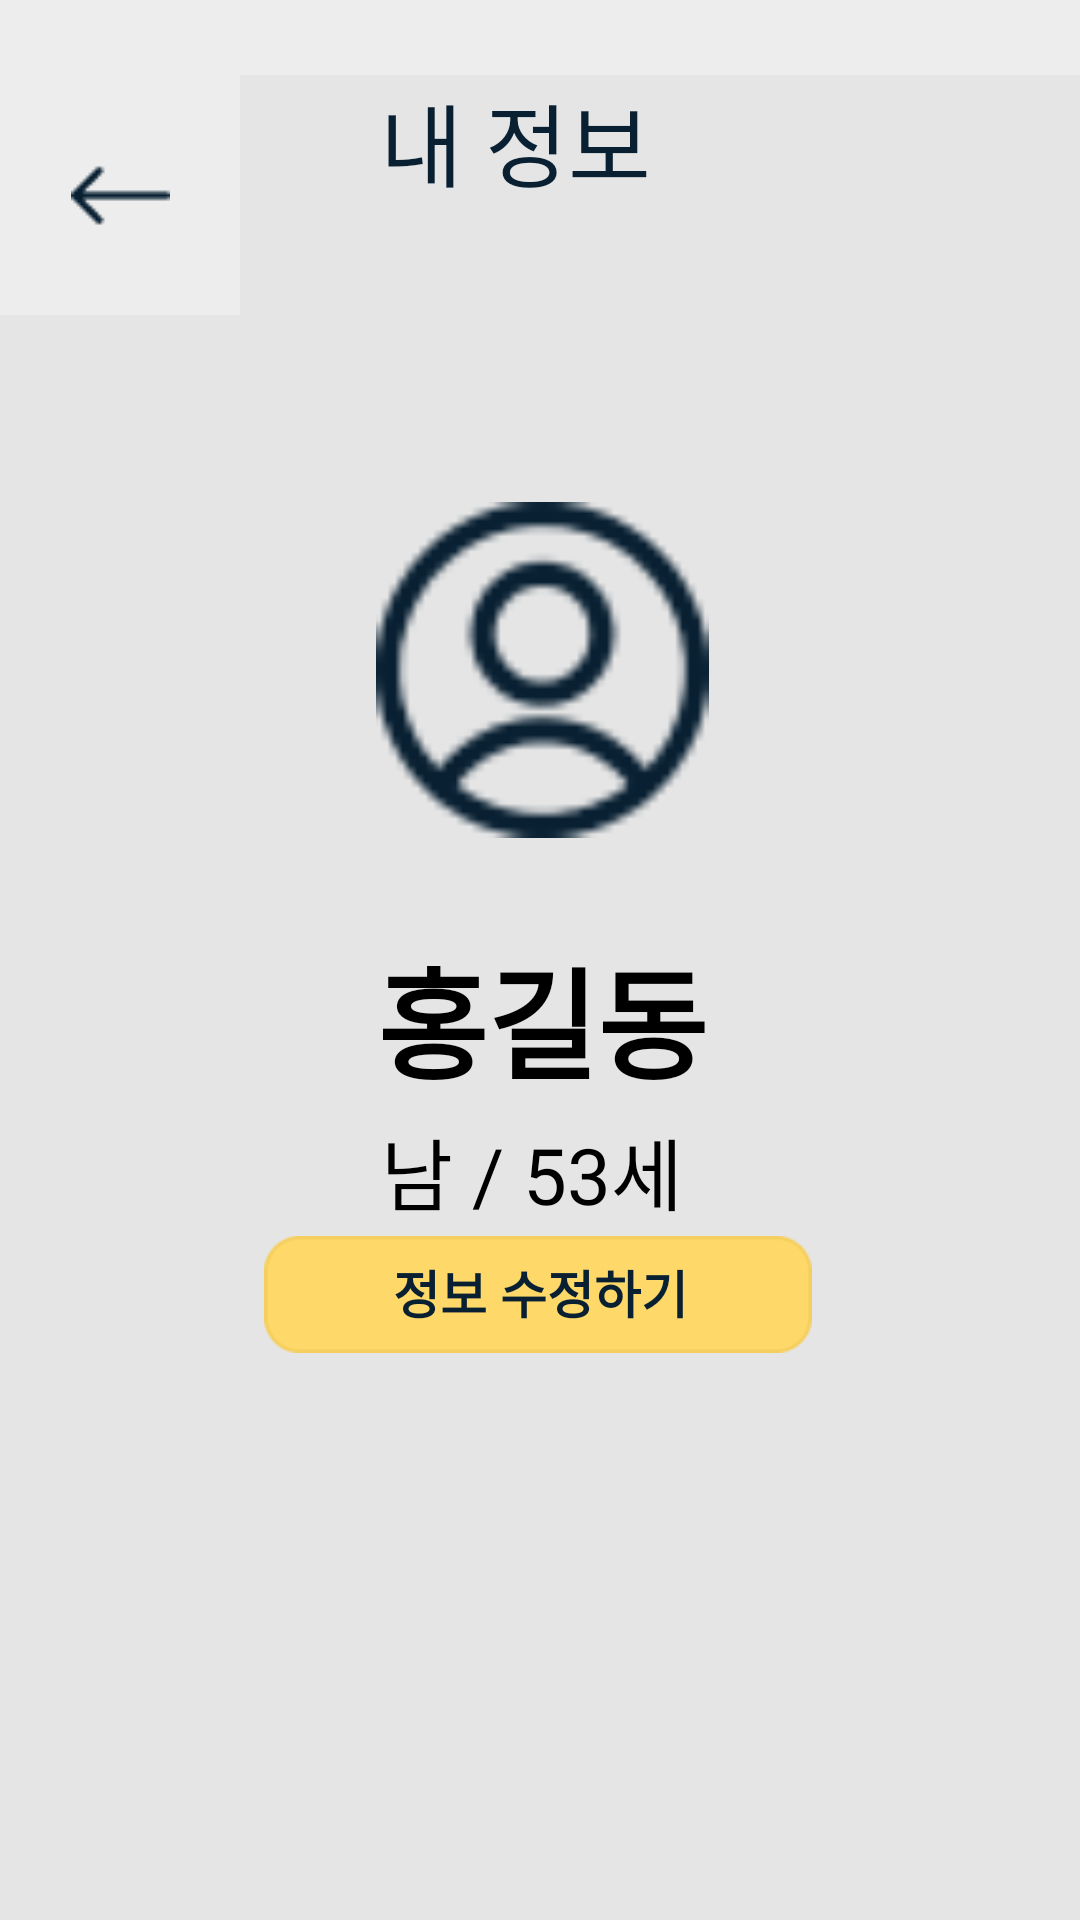

Where to tap for icons on this 1080 x 1920 app screen, as point (x, y):
arrow: point (120, 195)
user: point (542, 670)
